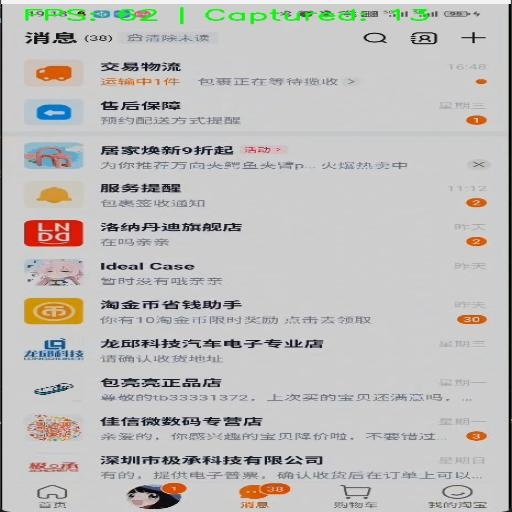butten: (19, 255, 496, 296), (18, 96, 504, 132), (16, 338, 502, 372), (347, 26, 398, 46)
